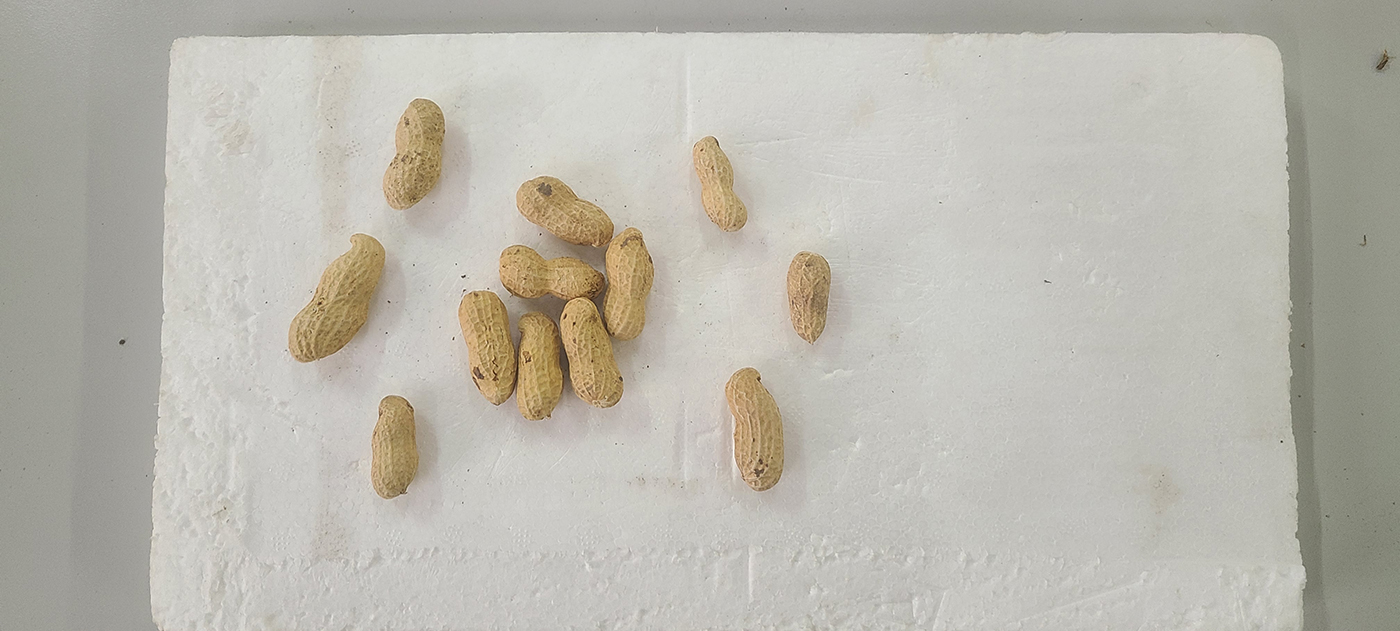h: (288, 233, 385, 362), (725, 368, 785, 491), (384, 96, 447, 210), (560, 298, 624, 407), (515, 175, 614, 245), (458, 290, 517, 406), (500, 245, 606, 301), (602, 227, 654, 340), (693, 135, 748, 233), (513, 313, 563, 420), (370, 394, 418, 499), (785, 251, 831, 341)
